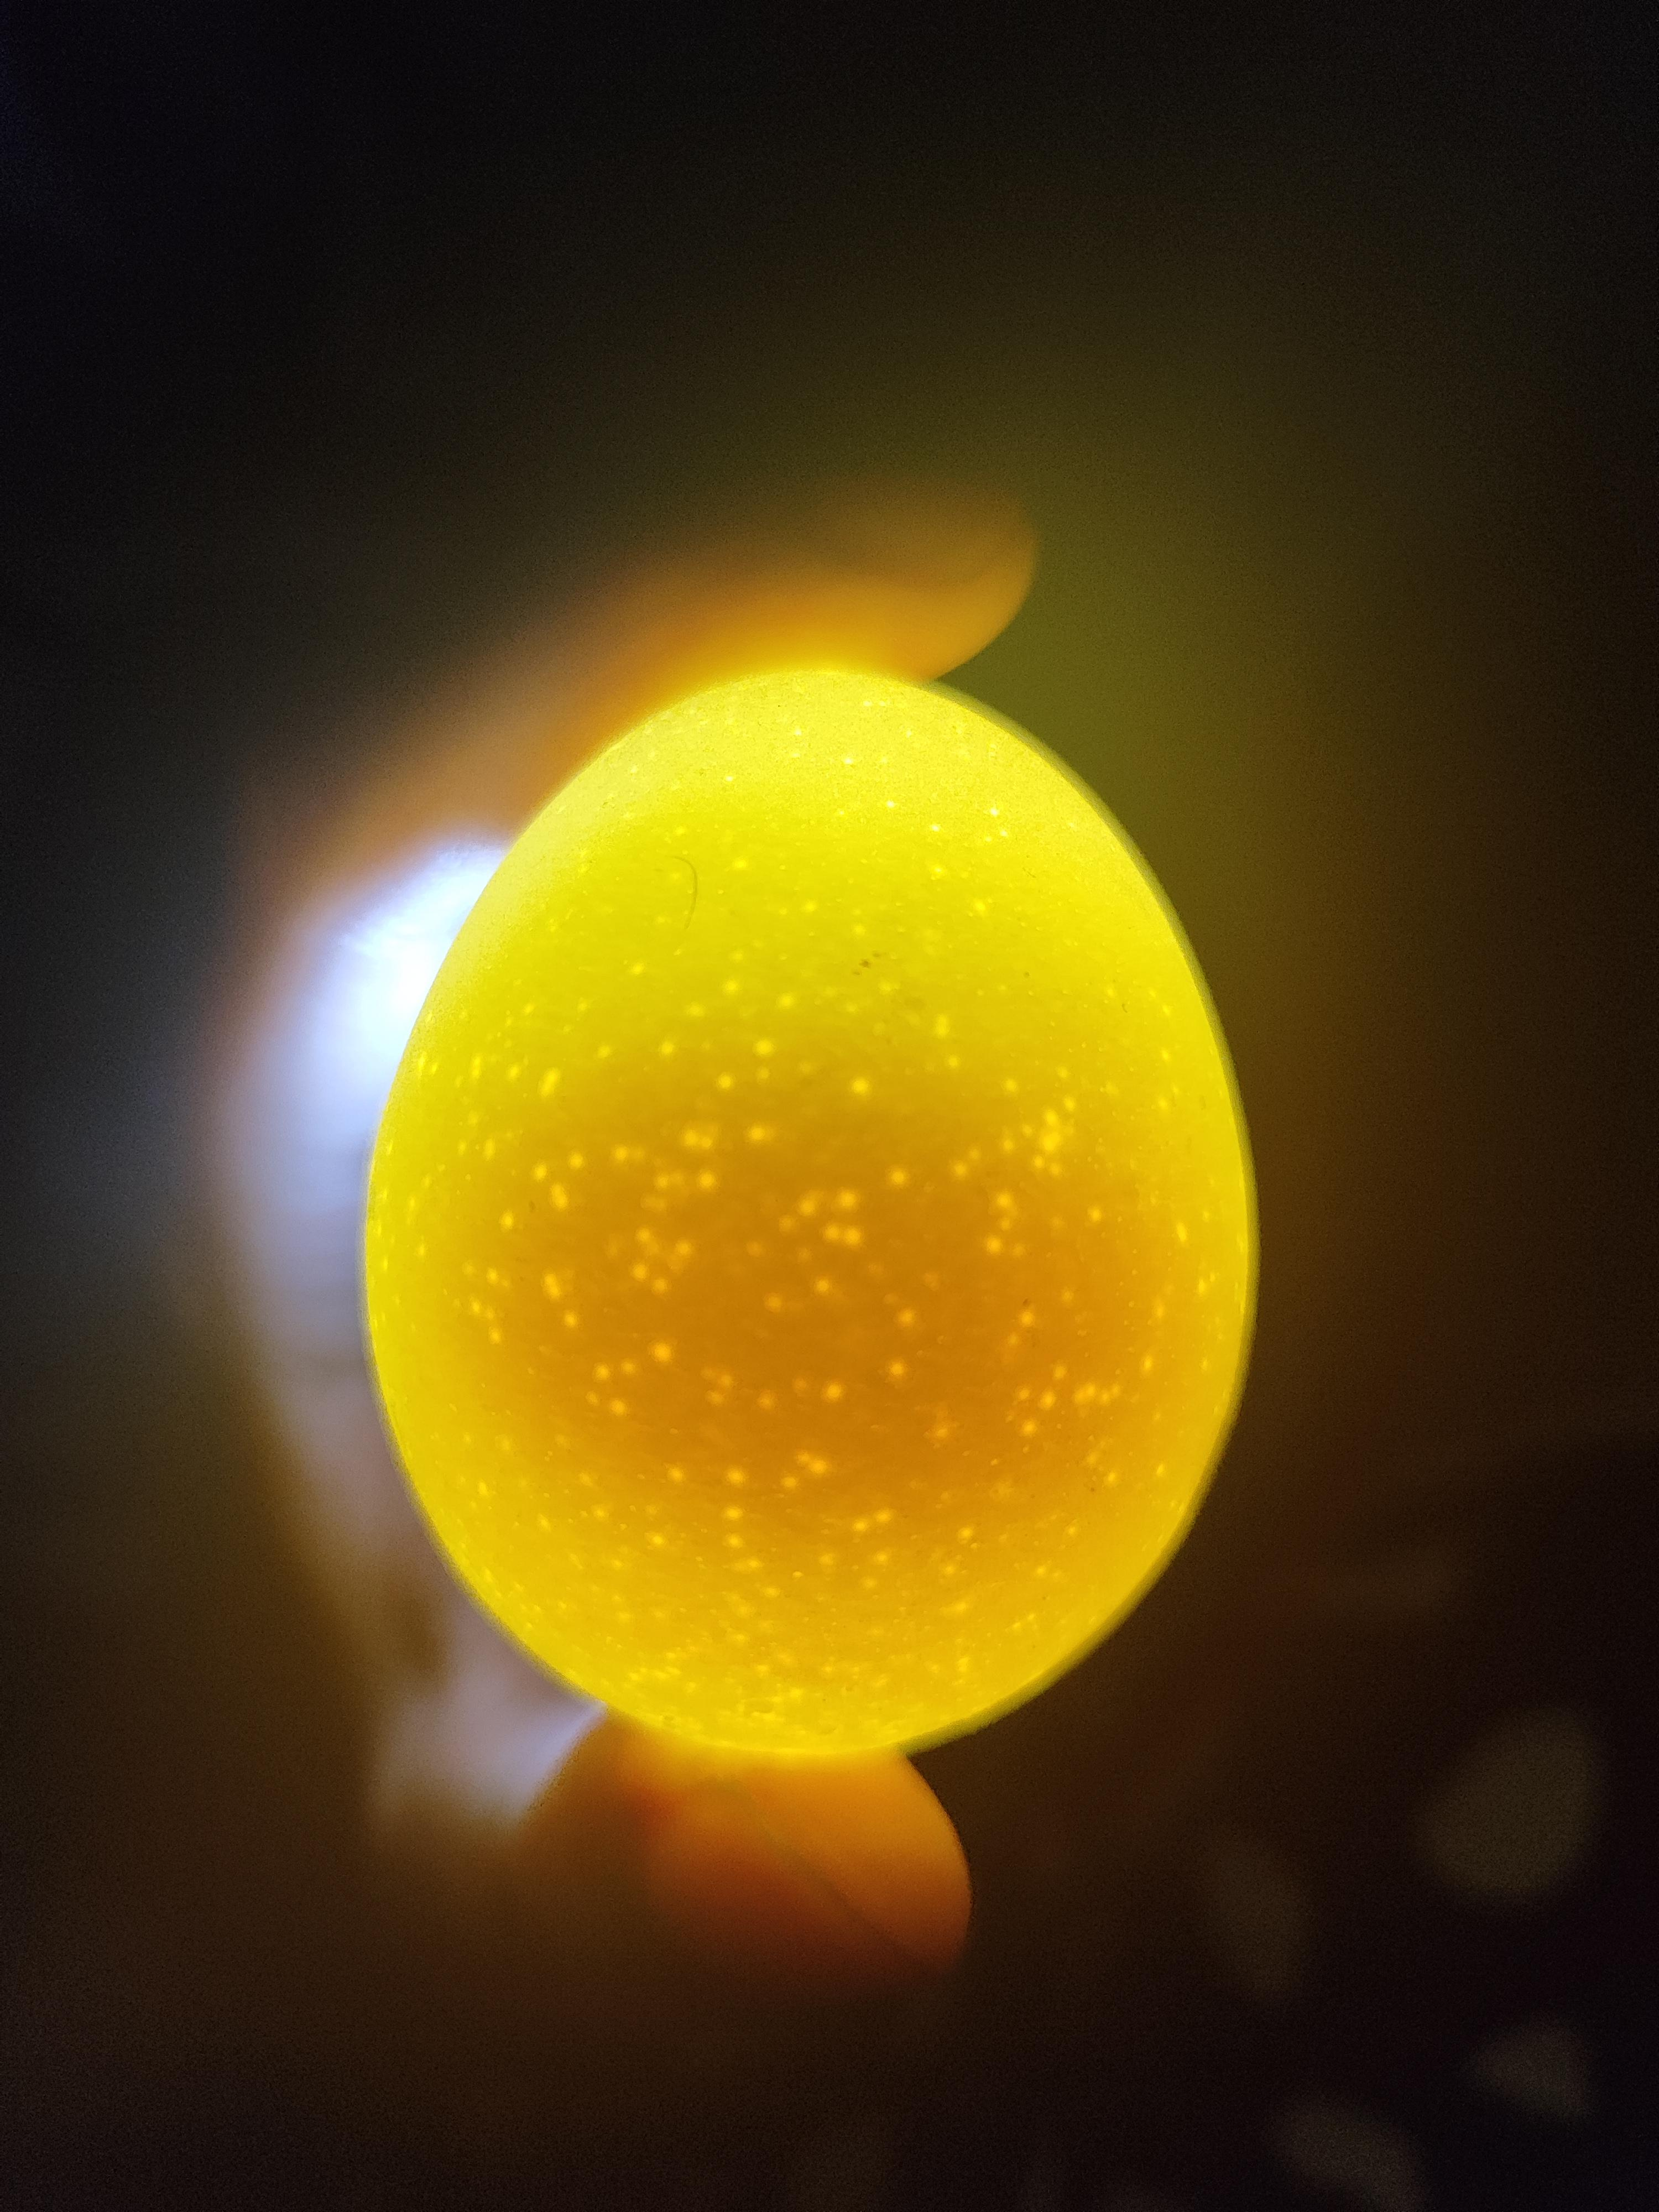A - Good: (359, 631, 1267, 1794)
